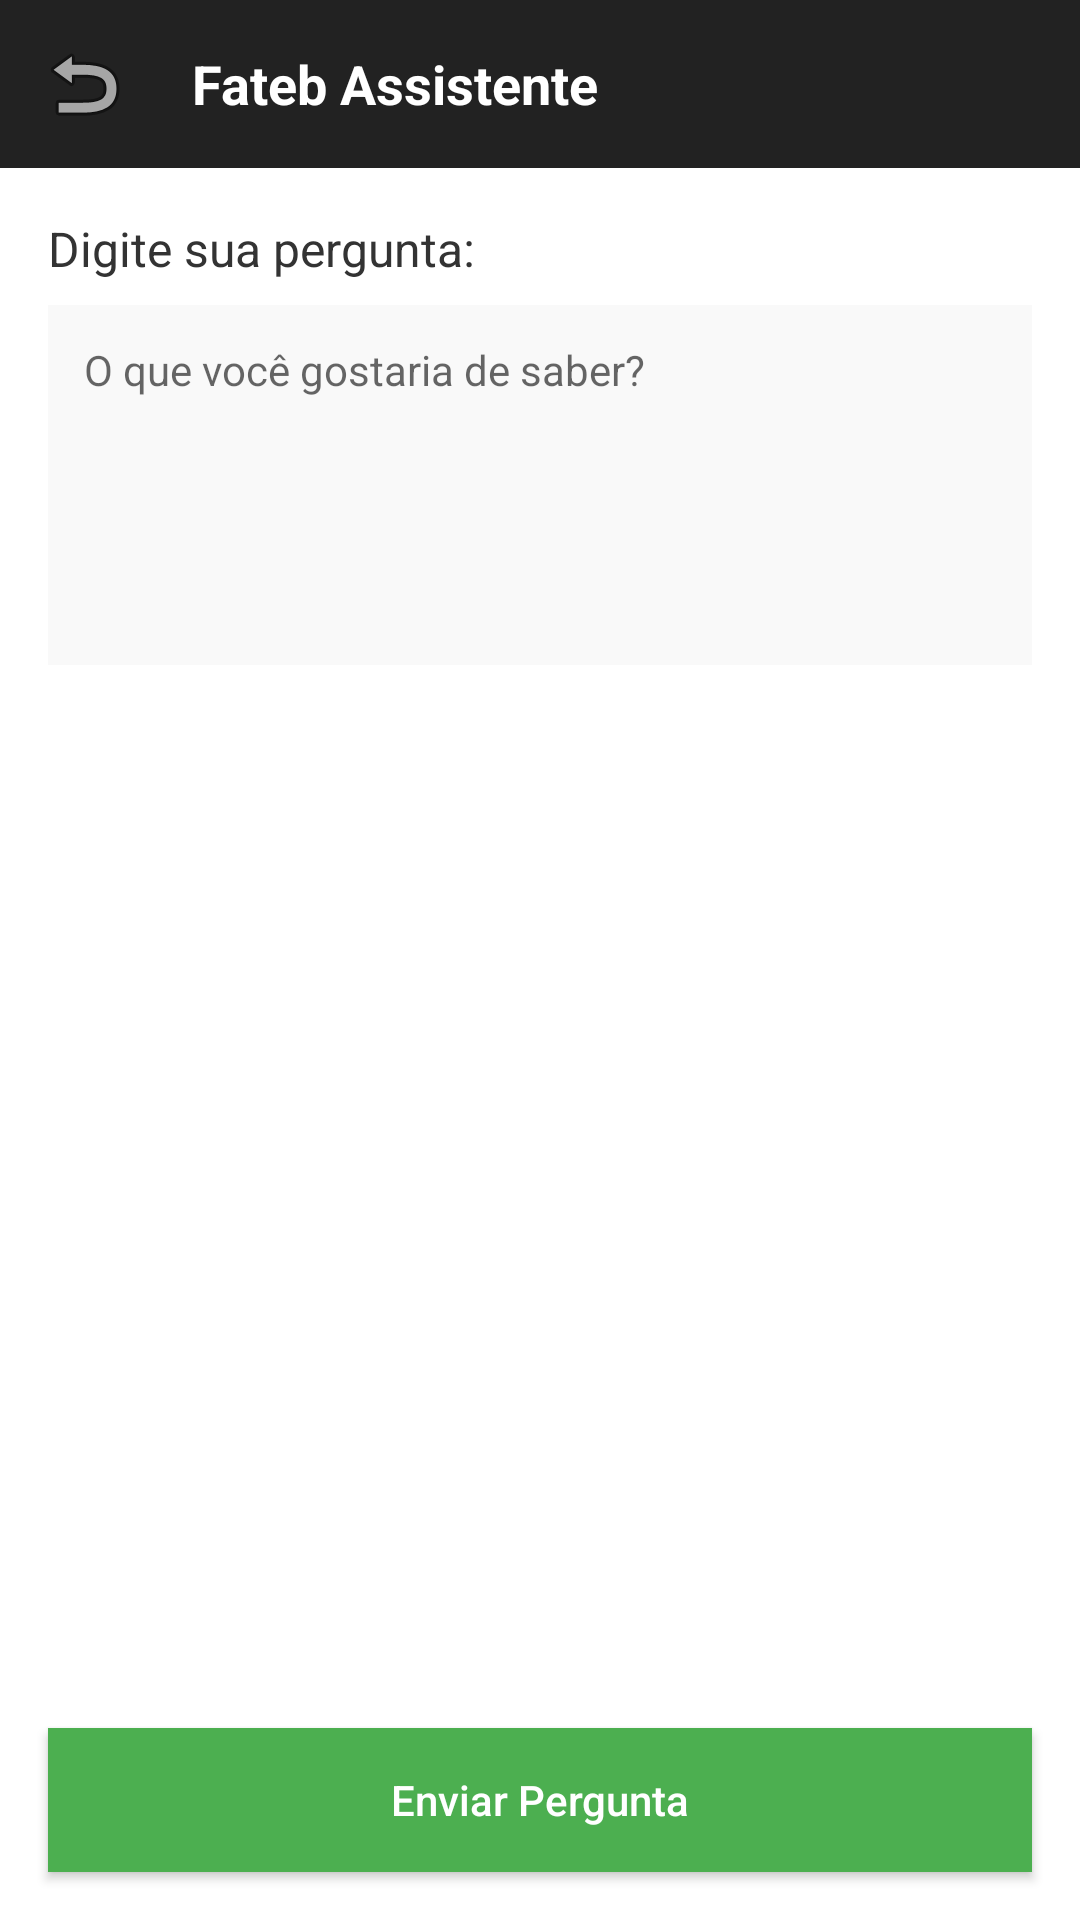

Screen size 1080px×1920px. Icon name, then its center in pixels as [x,y]:
Voltar: [85,84]
